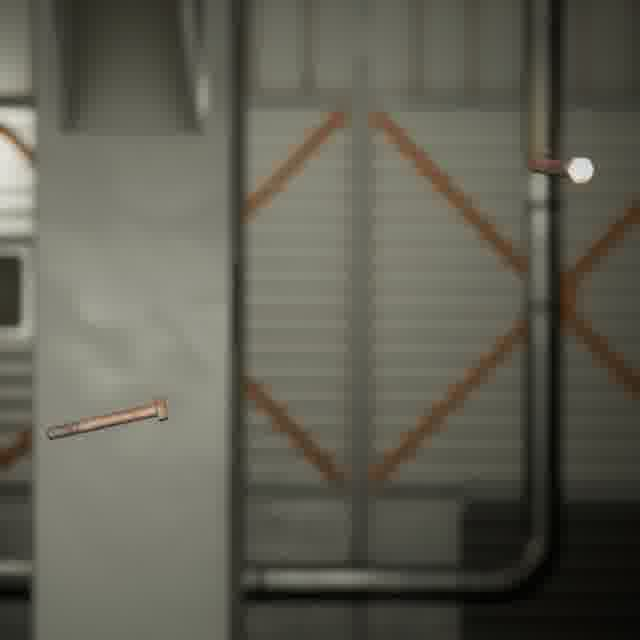bolt: (41, 390, 173, 444), (522, 152, 599, 188)
